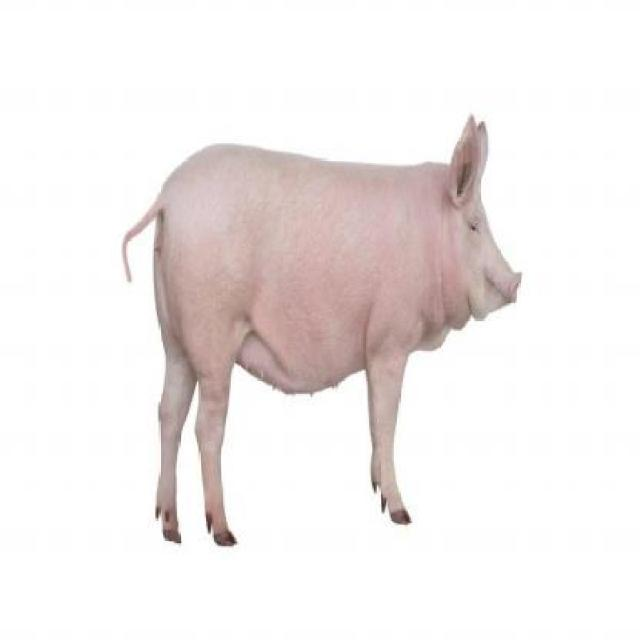pig: (122, 119, 520, 546)
